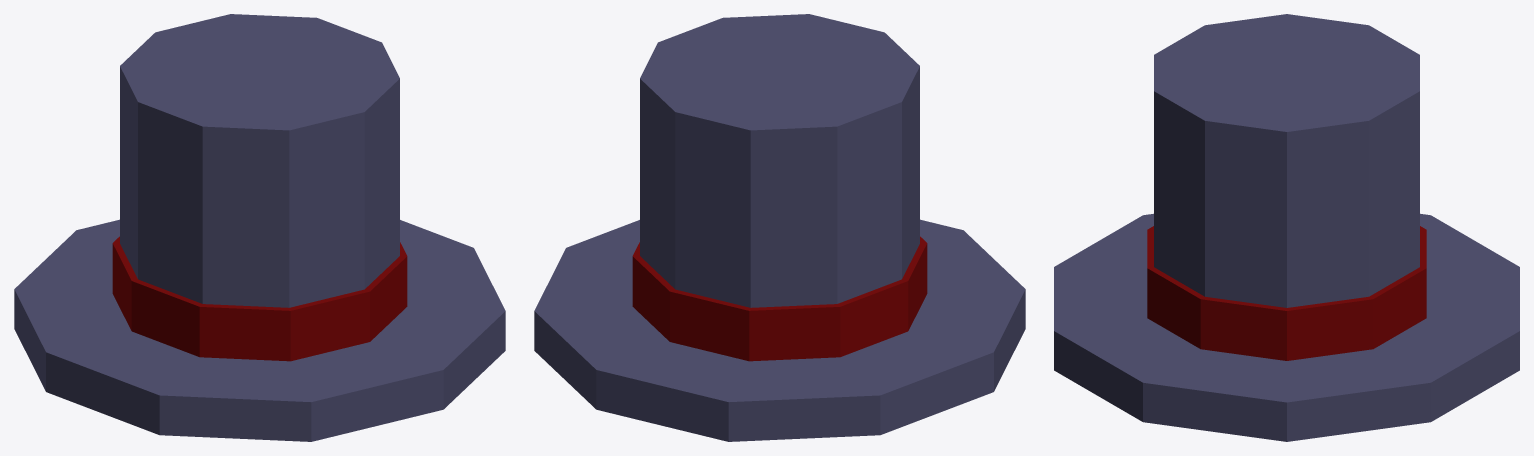
The model's file is Top hat.fbx.
The picture shows the model from 3 angles, left to right: view 1: azimuth 30°, elevation 25°; view 2: azimuth 150°, elevation 25°; view 3: azimuth 270°, elevation 25°; orthographic projection.
Visible parts, largest first — view 1: pCylinder4, pCylinder3, pCylinder5; view 2: pCylinder4, pCylinder3, pCylinder5; view 3: pCylinder4, pCylinder3, pCylinder5.
Boxes of the visible parts, bbox=[...] form: pCylinder4: bbox=[120, 14, 399, 307]; pCylinder3: bbox=[14, 219, 505, 441]; pCylinder5: bbox=[112, 236, 407, 361]; pCylinder4: bbox=[640, 14, 919, 307]; pCylinder3: bbox=[534, 219, 1025, 441]; pCylinder5: bbox=[632, 236, 927, 361]; pCylinder4: bbox=[1154, 14, 1419, 307]; pCylinder3: bbox=[1054, 213, 1519, 441]; pCylinder5: bbox=[1147, 226, 1426, 360].
Bounding box in the file's own units: 2.48 × 1.49 × 2.36.
